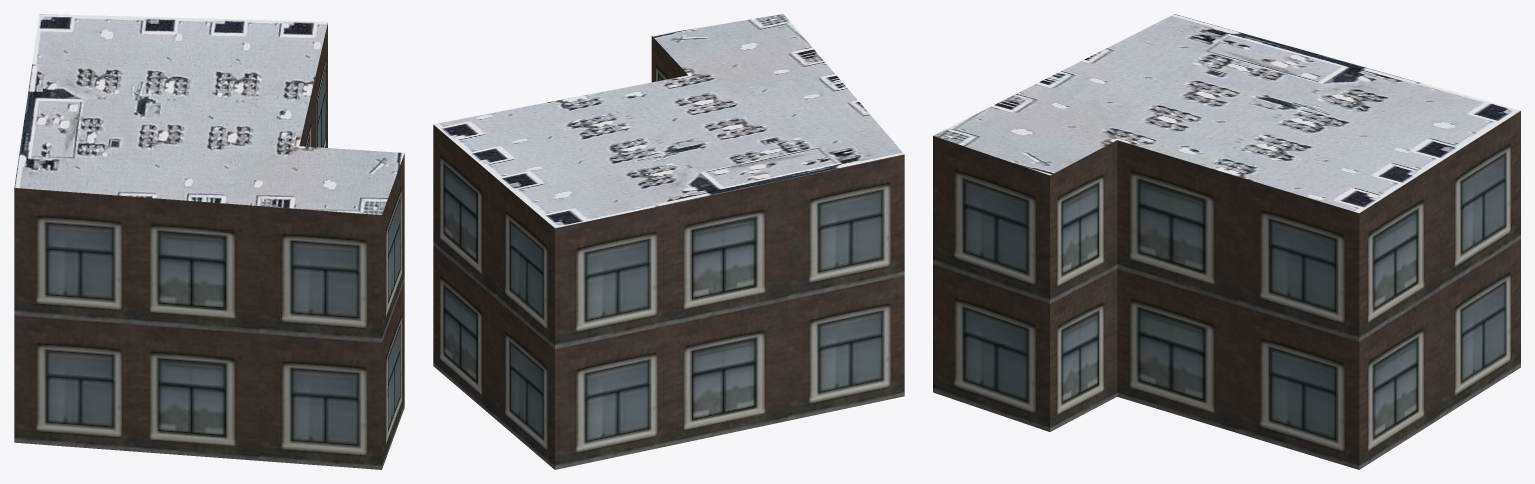
File: ResTex__3303.fbx
3 renders of one model, left to right at view 1: azimuth 30°, elevation 25°; view 2: azimuth 150°, elevation 25°; view 3: azimuth 270°, elevation 25°, orthographic. The views are drawn at different scales.
Parts seen in each view (by area): view 1: CityEngineMaterial_16_m, CityEngineMaterial_15_m; view 2: CityEngineMaterial_16_m, CityEngineMaterial_15_m; view 3: CityEngineMaterial_16_m, CityEngineMaterial_15_m.
Boxes of the visible parts, x1,y1,x2,y2 form: CityEngineMaterial_16_m: [14, 23, 404, 469]; CityEngineMaterial_15_m: [14, 14, 404, 214]; CityEngineMaterial_16_m: [433, 36, 904, 469]; CityEngineMaterial_15_m: [433, 14, 904, 228]; CityEngineMaterial_16_m: [933, 111, 1520, 469]; CityEngineMaterial_15_m: [933, 14, 1520, 212].
Bounding box in the file's own units: 9.99 × 6 × 12.45.
Materials: 2 (2 with a texture image).
